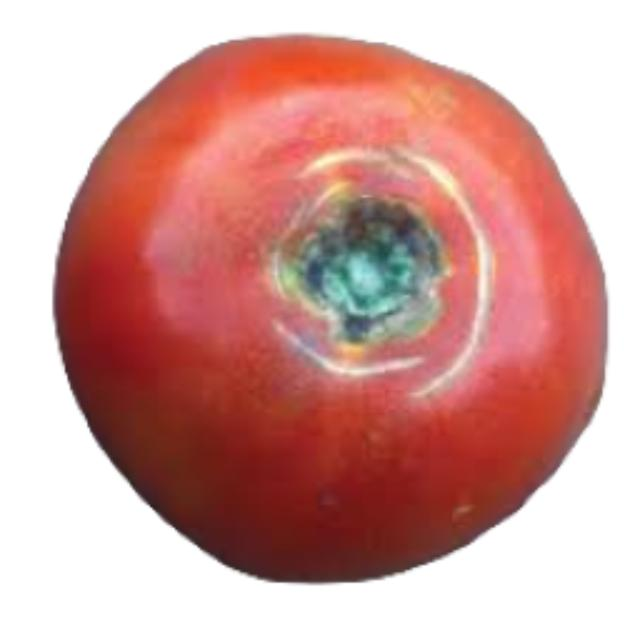defect: (46, 27, 611, 587)
